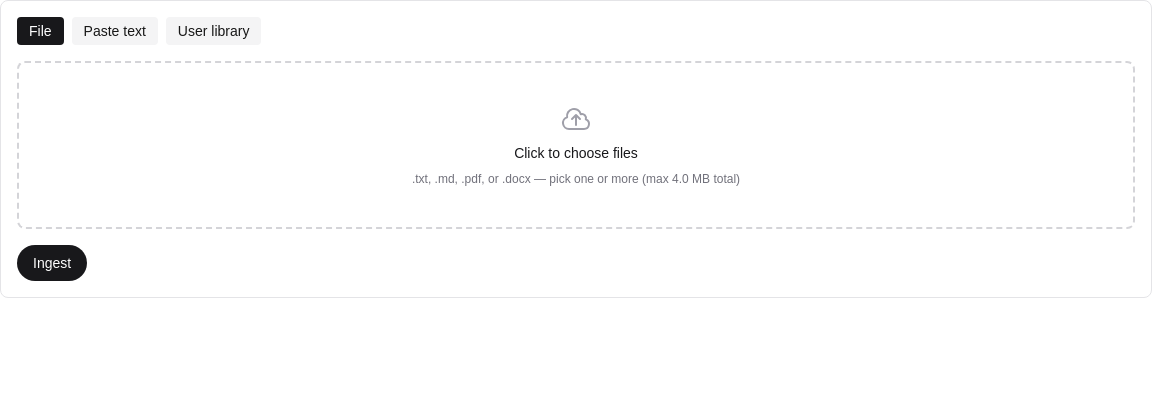
Test case: FileUpload › paste mode: refuses blank text, then posts text without a file and shows a mid-stream error
The image size is (1152, 407).
Click the button "Paste text" at point(115, 31), box [72,17,158,45]
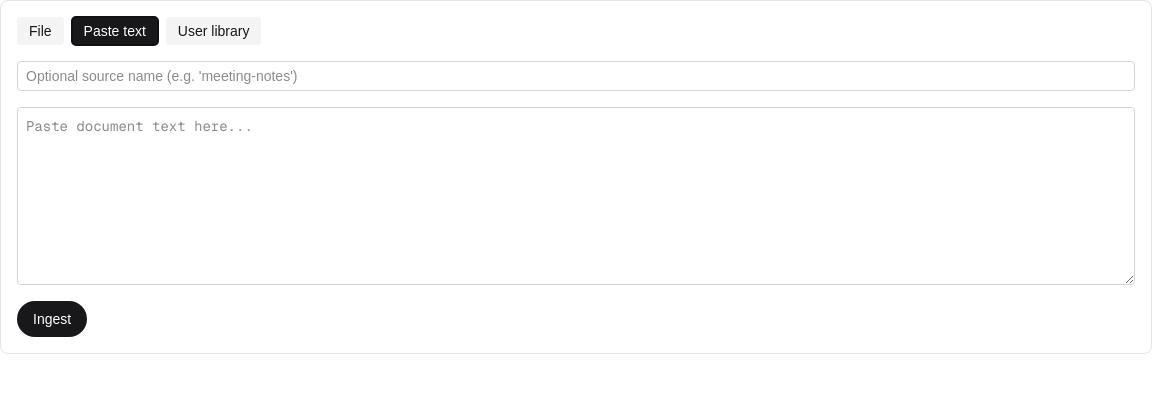
Click the button "Ingest" at point(52, 319), box [17,301,87,337]
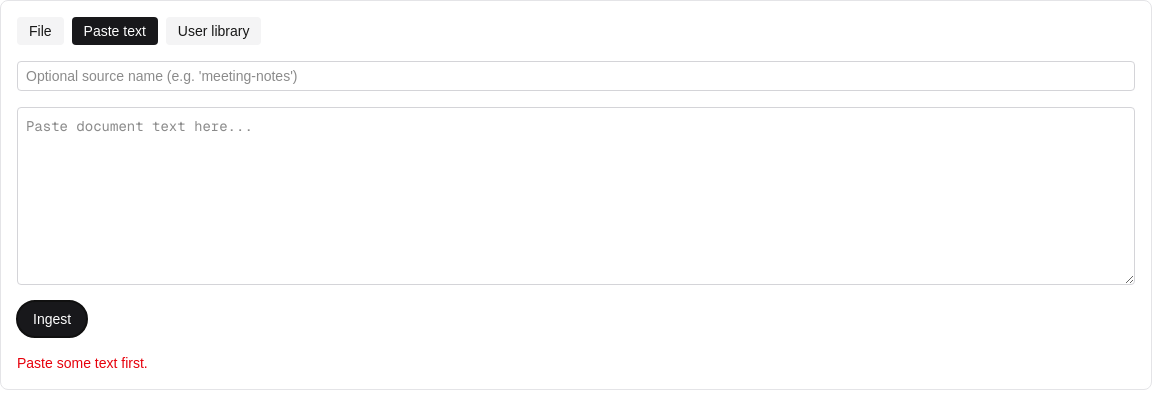
Expected: the text "Paste some text first." is shown, [17,355,148,371]
Type "Some text." into the text box with placeholder "Paste document text here..." at point(576, 196), box [17,107,1135,285]
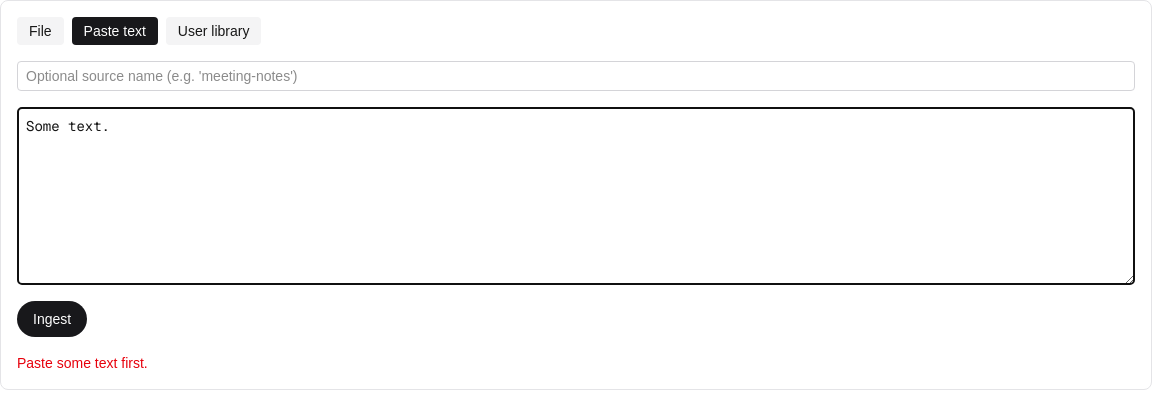
Click the button "Ingest" at point(52, 319), box [17,301,87,337]
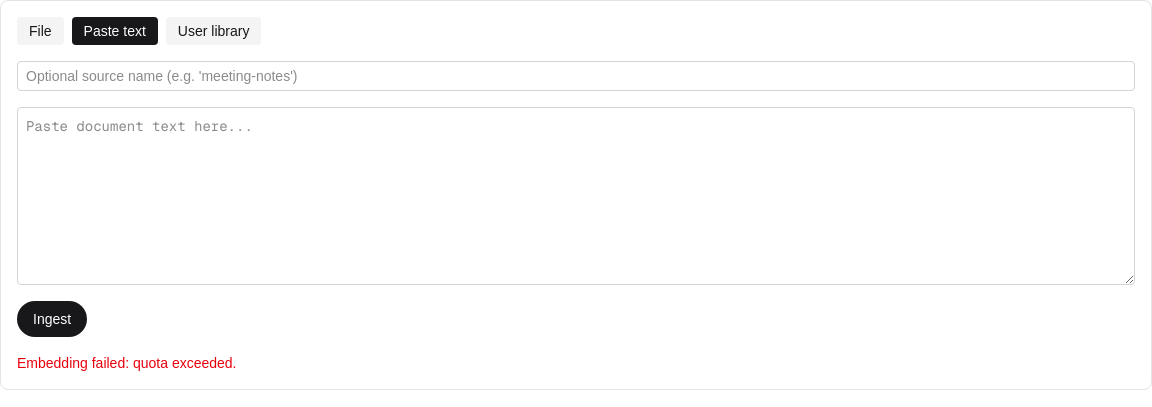
Expected: the text "Embedding failed: quota exceeded." is shown, [17,355,236,371]
